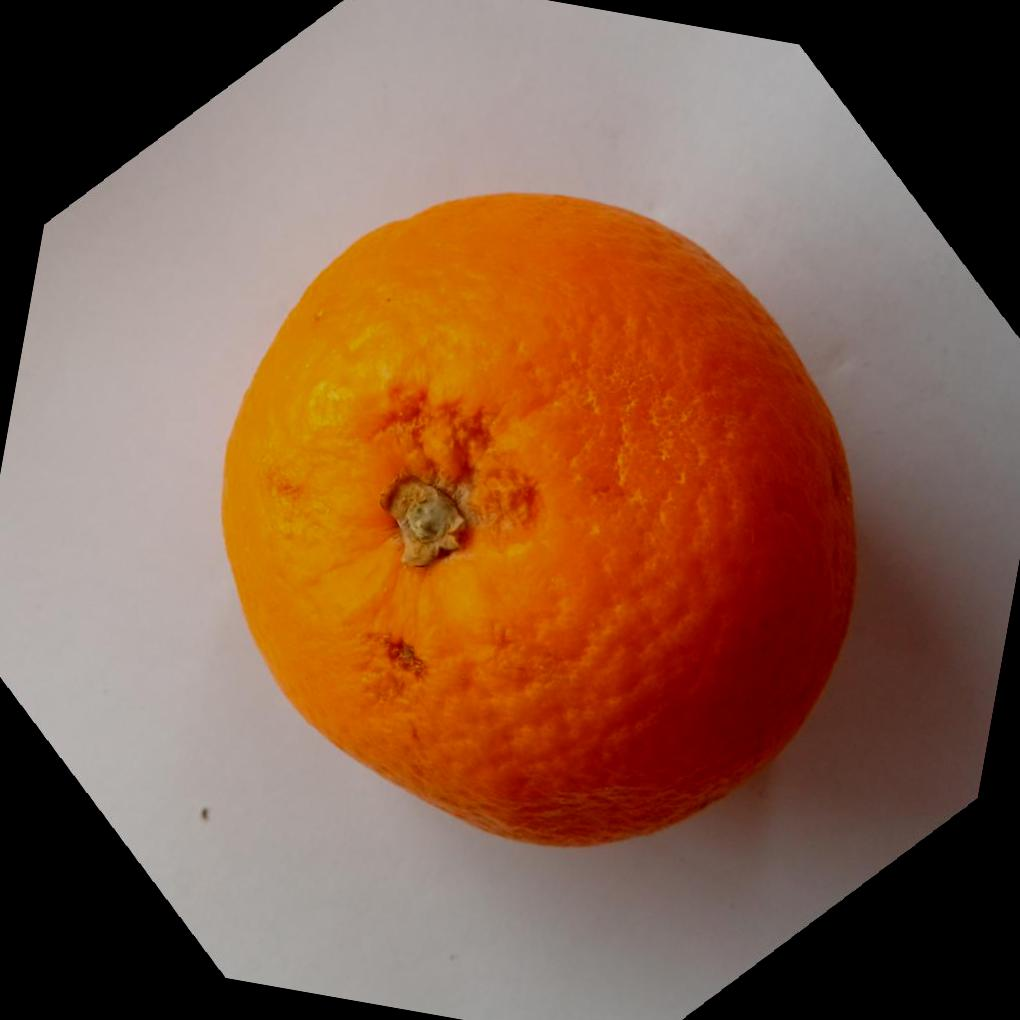FreshGuava: (219, 185, 859, 847)
